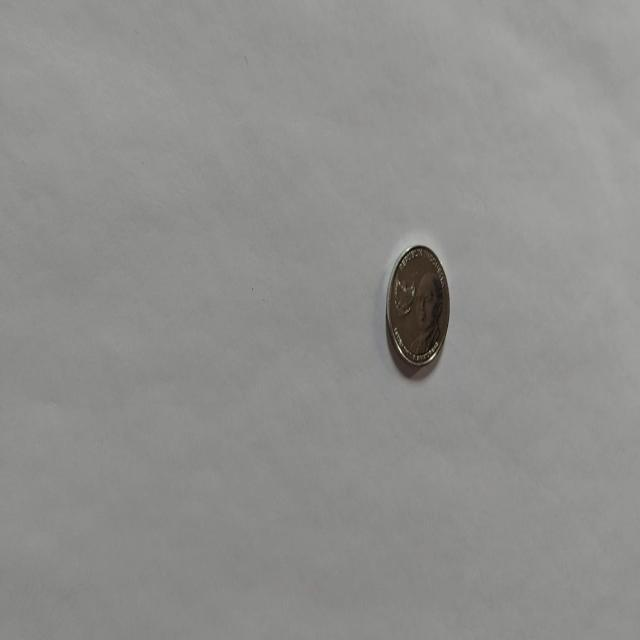lima ratus rupiah: (384, 243, 450, 369)
